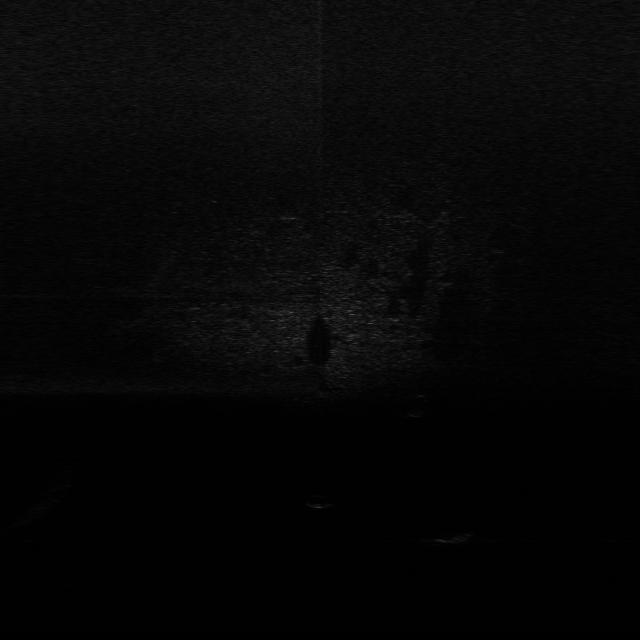ball: (306, 493, 334, 511)
square cage: (423, 531, 476, 549)
tyre: (403, 393, 438, 420)
